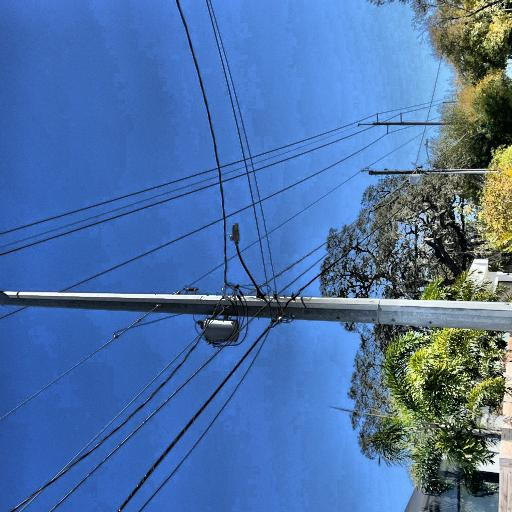pole: (50, 0, 106, 512)
street light: (90, 369, 158, 409)
transformer: (49, 338, 75, 380)
